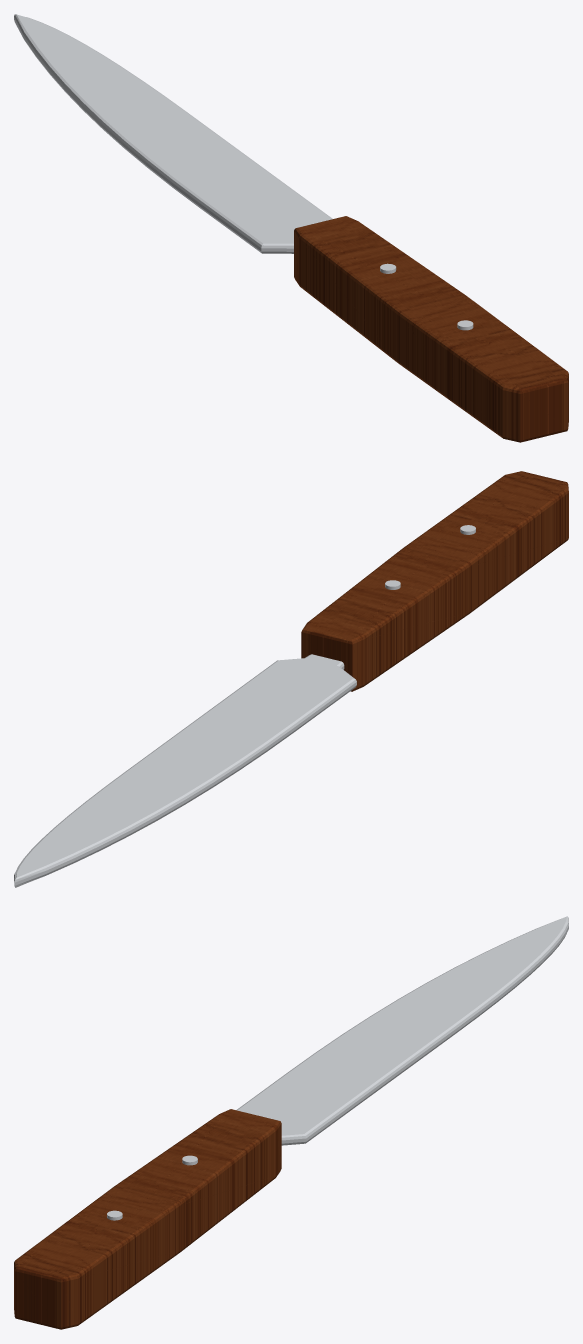
The model's file is CUB-41.glb.
The picture shows the model from 3 angles, top to bottom: view 1: azimuth 30°, elevation 25°; view 2: azimuth 150°, elevation 25°; view 3: azimuth 330°, elevation 25°; orthographic projection. The views are drawn at different scales.
Bounding box in the file's own units: 0.0258 × 0.017 × 0.2922.
Materials: 4 (1 with a texture image).
